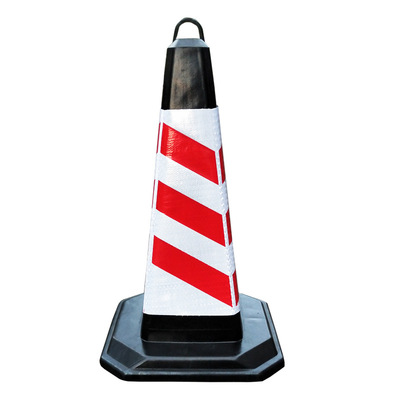traffic_cone: (83, 13, 306, 388)
